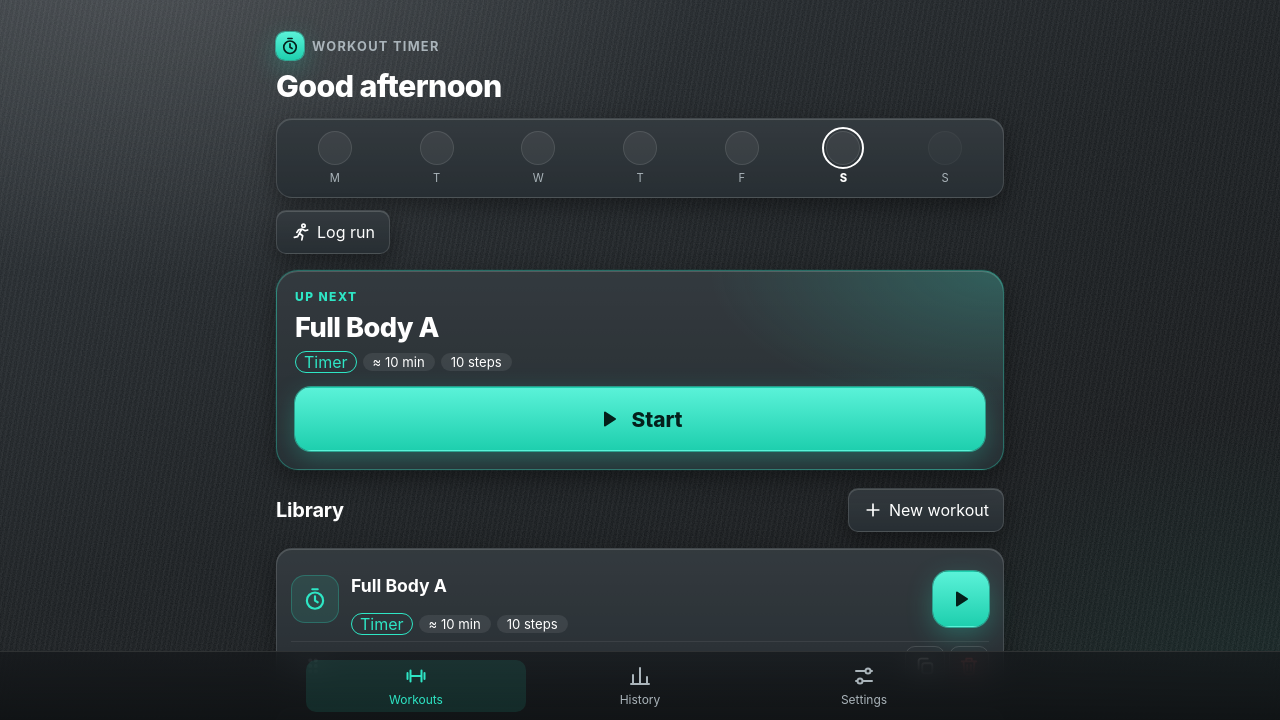
Test: App › edits made in the editor are in the library after going back
Click the button "Full Body A" at (399, 585), box [351,563,921,607]
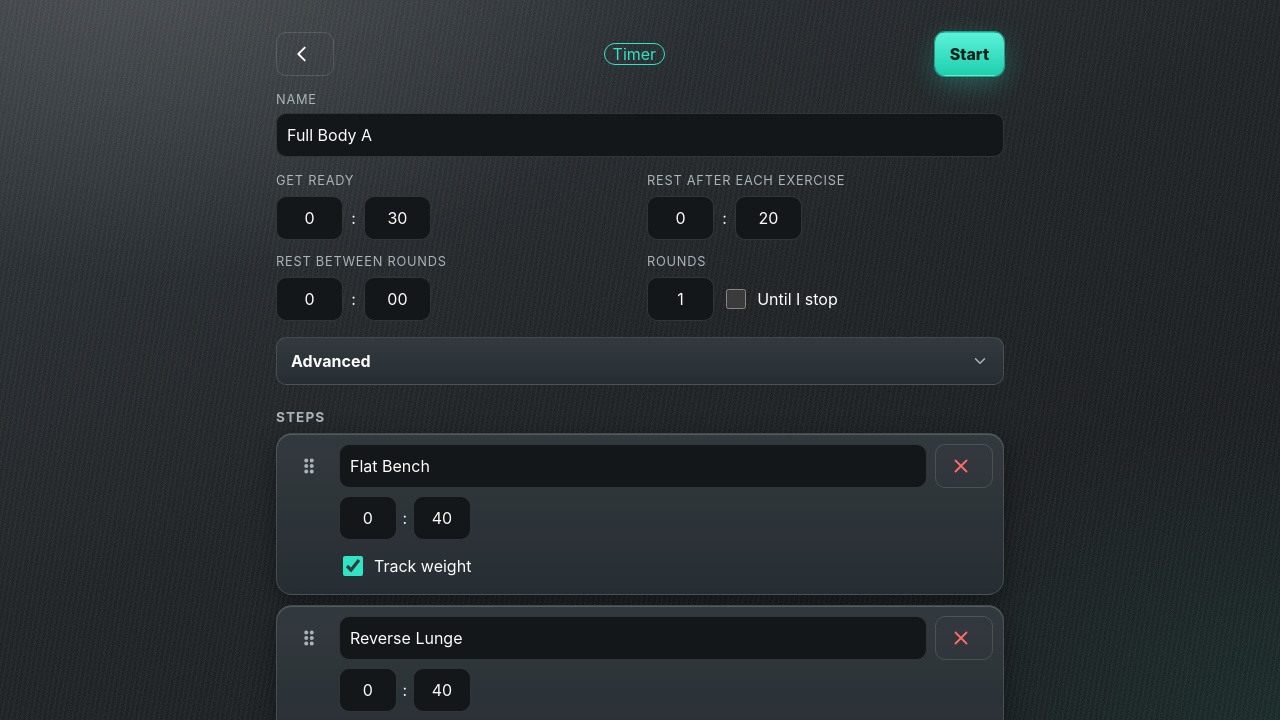
Replace the text in the field labelled "Name" with "Push day" at (640, 135), box [276,113,1004,157]
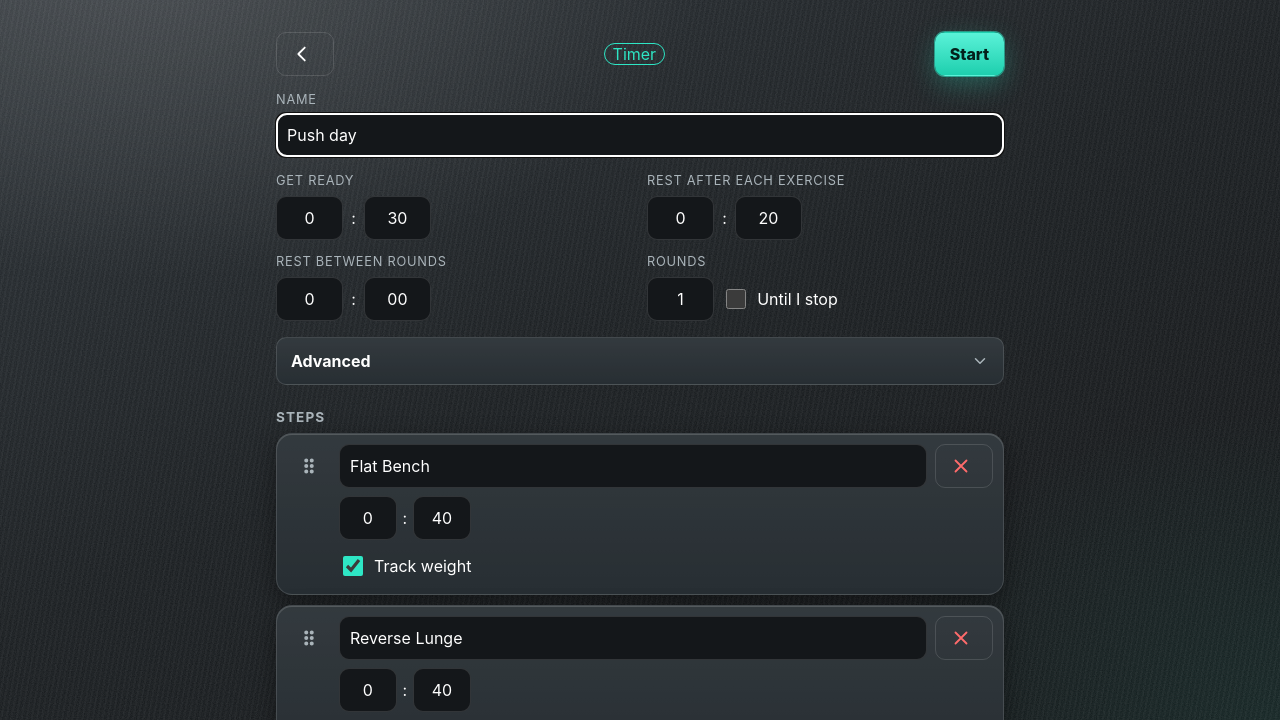
Click the button named "Back to library" in the row of "Timer" at (305, 54), box [276,32,334,76]
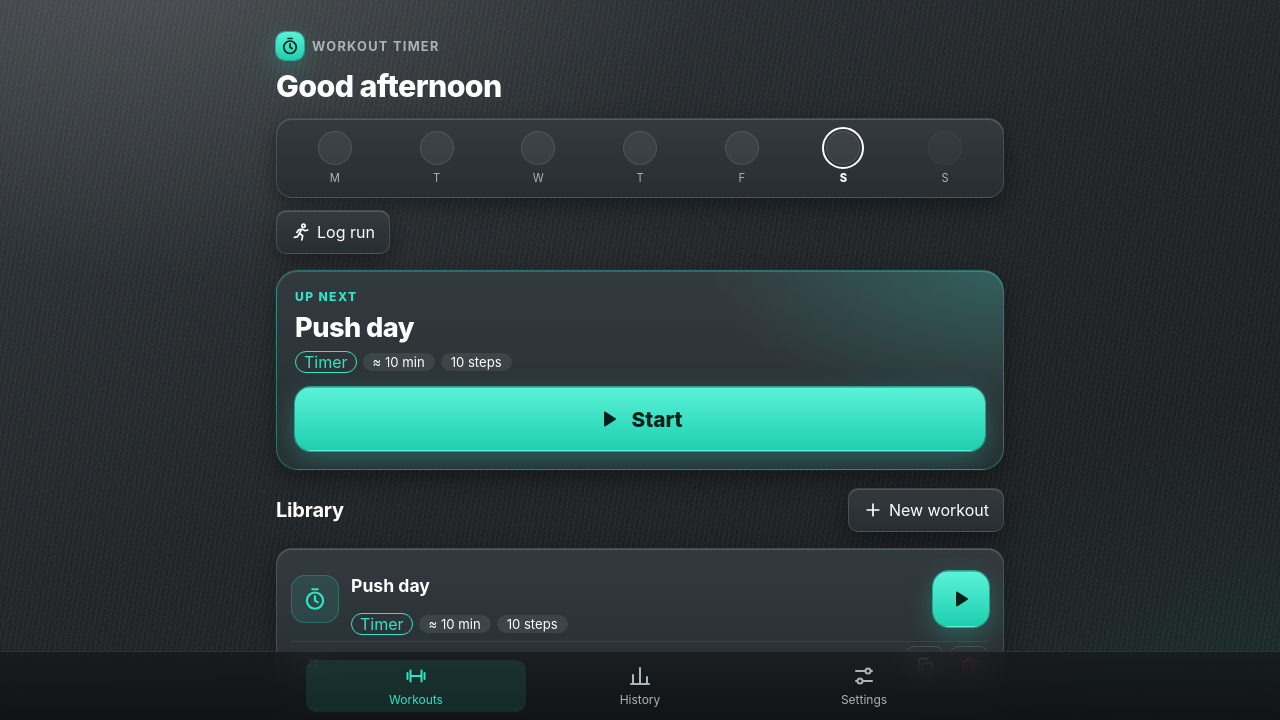
Check: the button "Push day" is shown, box [351,563,921,607]
